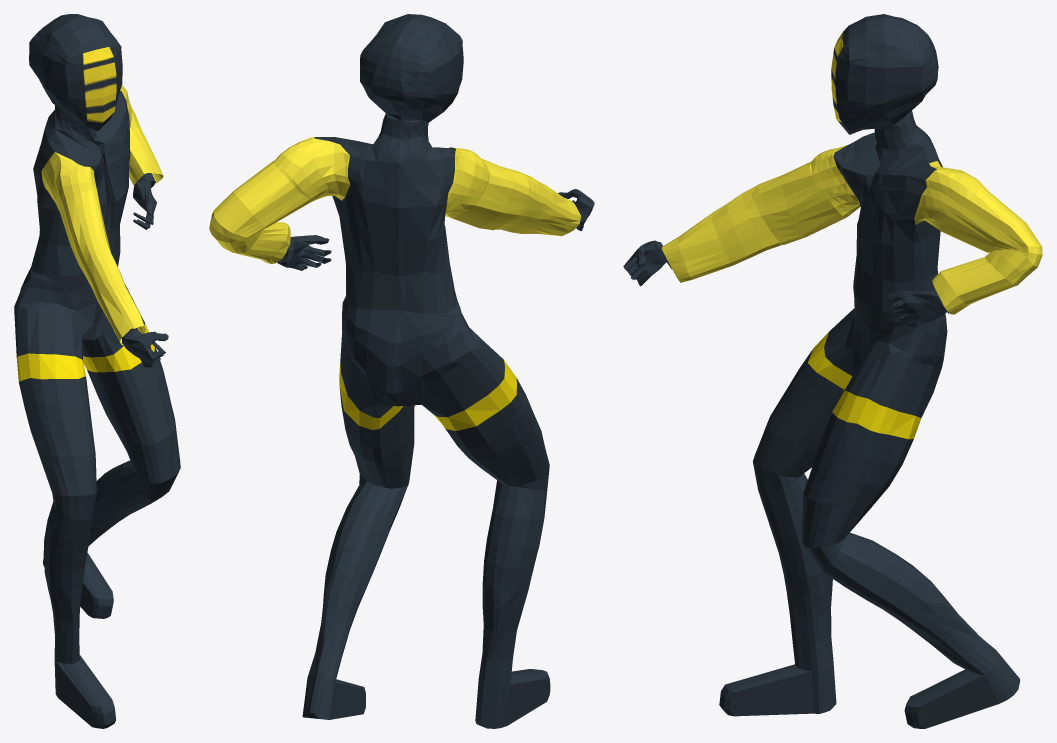
Rendered from Sentry_WB_000022.obj.
3 renders of one model, left to right at view 1: azimuth 30°, elevation 25°; view 2: azimuth 150°, elevation 25°; view 3: azimuth 270°, elevation 25°, orthographic. The views are drawn at different scales.
Visible parts, largest first — view 1: Cube; view 2: Cube; view 3: Cube.
Part boxes in pixels (left/top/right/bottom): Cube: left=14, top=14, right=180, bottom=728; Cube: left=209, top=14, right=594, bottom=728; Cube: left=623, top=14, right=1042, bottom=728.
Bounding box in the file's own units: 1.17 × 3.74 × 1.98.
